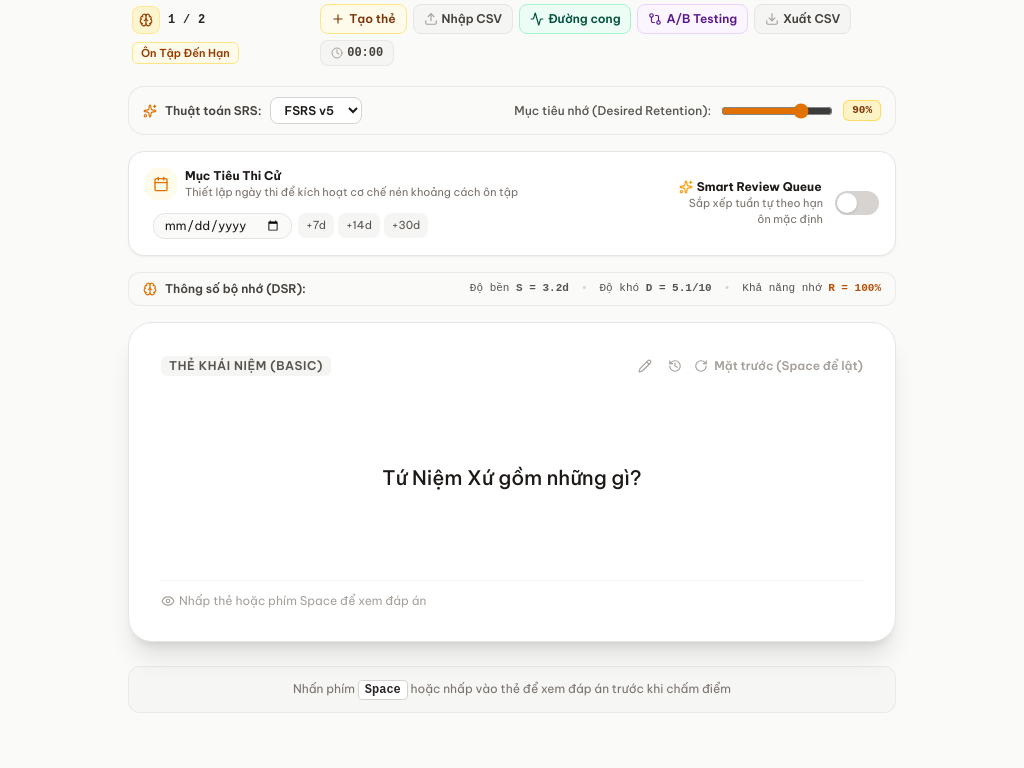
Test case: FlashcardReviewStudio Integration Tests (Gherkin Scenarios 1-10) › Scenario 4: Chấm điểm Good (3) và chuyển sang thẻ tiếp theo
Expected: the text "Tứ Niệm Xứ gồm những gì?" is shown, [382,465,642,490]
Note: Lật thẻ bằng click trực tiếp để phục vụ kiểm tra rating & submission
What coordinates should you click on to do the following:
click the button with test id "flashcard-card"
I would click on:
 (512, 622)
Its box is [128,322,896,642].
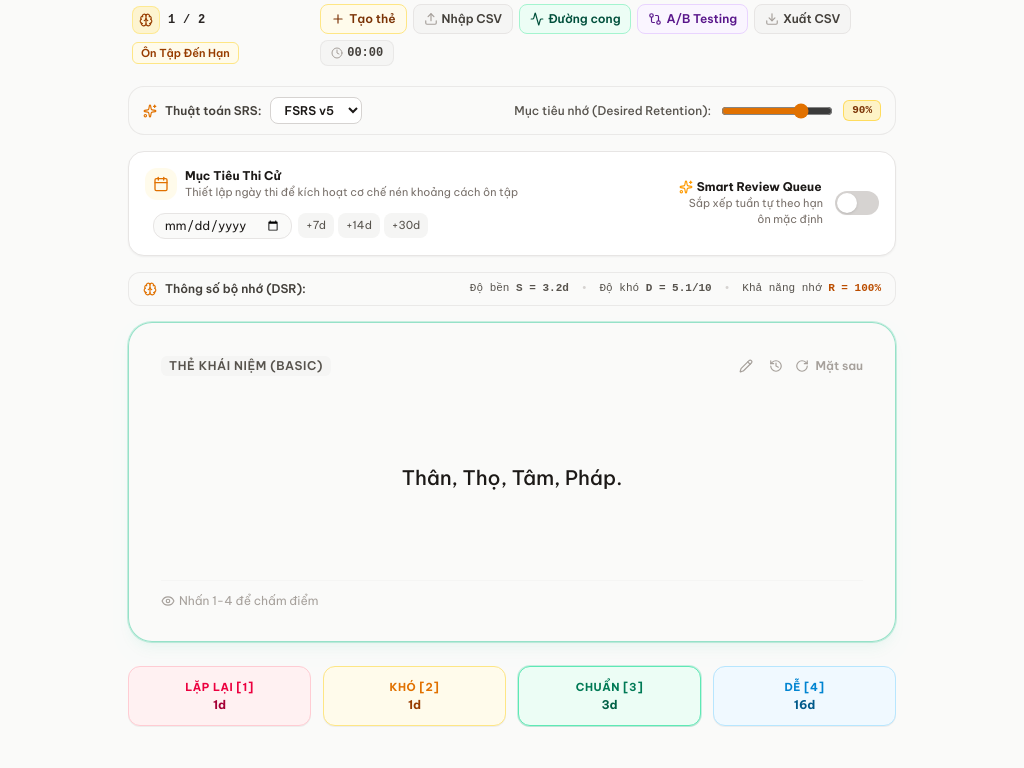
Result: the text "Thân, Thọ, Tâm, Pháp." is shown at [402,465,622,490]
Note: Bấm nút Good (3) hoặc phím "3"
What coordinates should you click on to do the following:
click the button with test id "rating-btn-3"
I would click on:
 (610, 696)
Its box is [518,666,701,726].
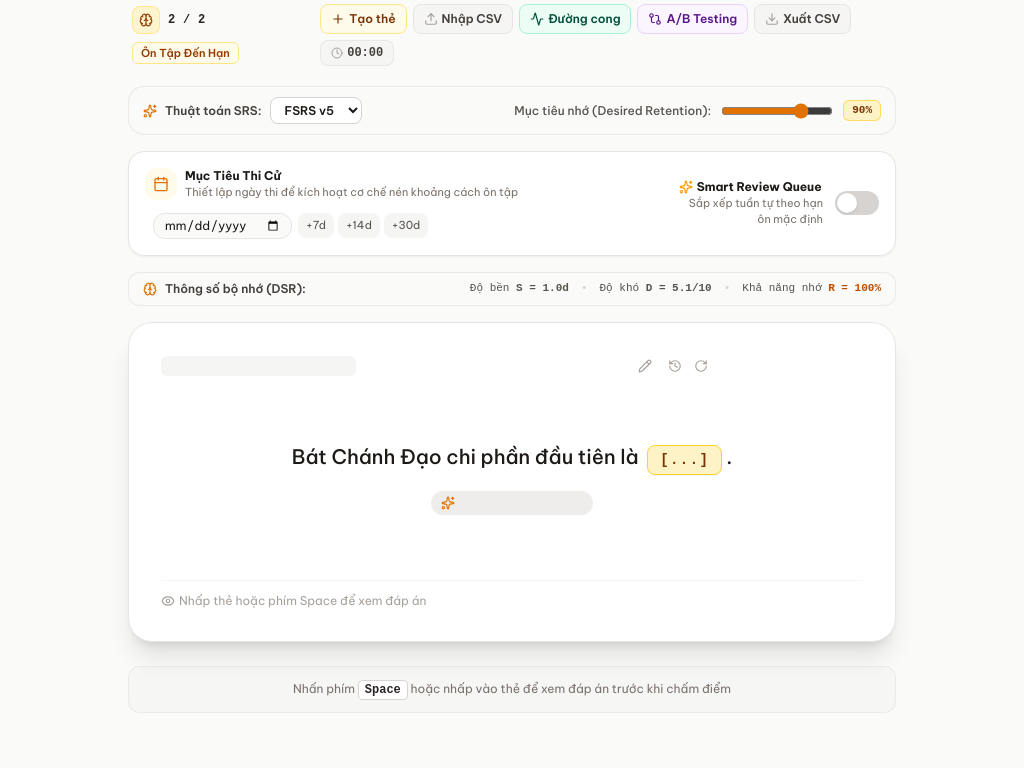
Result: the text "Bát Chánh Đạo chi phần đầu tiên là" is shown at [292,444,643,468]
Result: the text with test id "queue-progress" reads "2 / 2" at [168,12,206,28]
